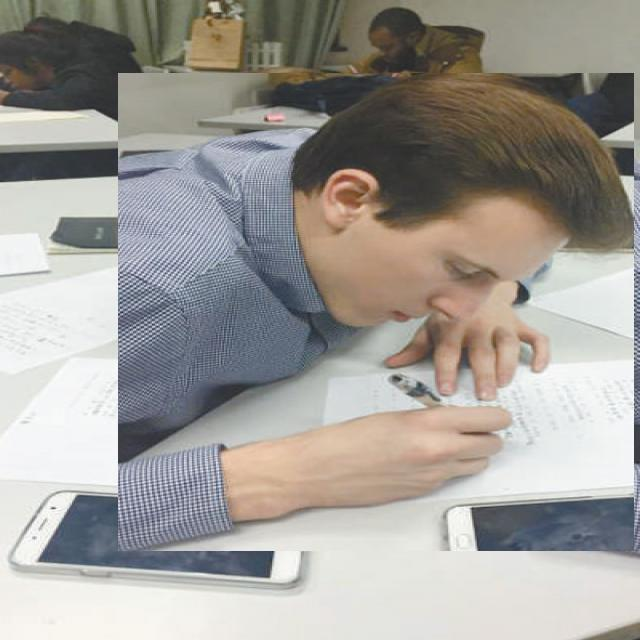direk: (118, 73, 634, 551)
